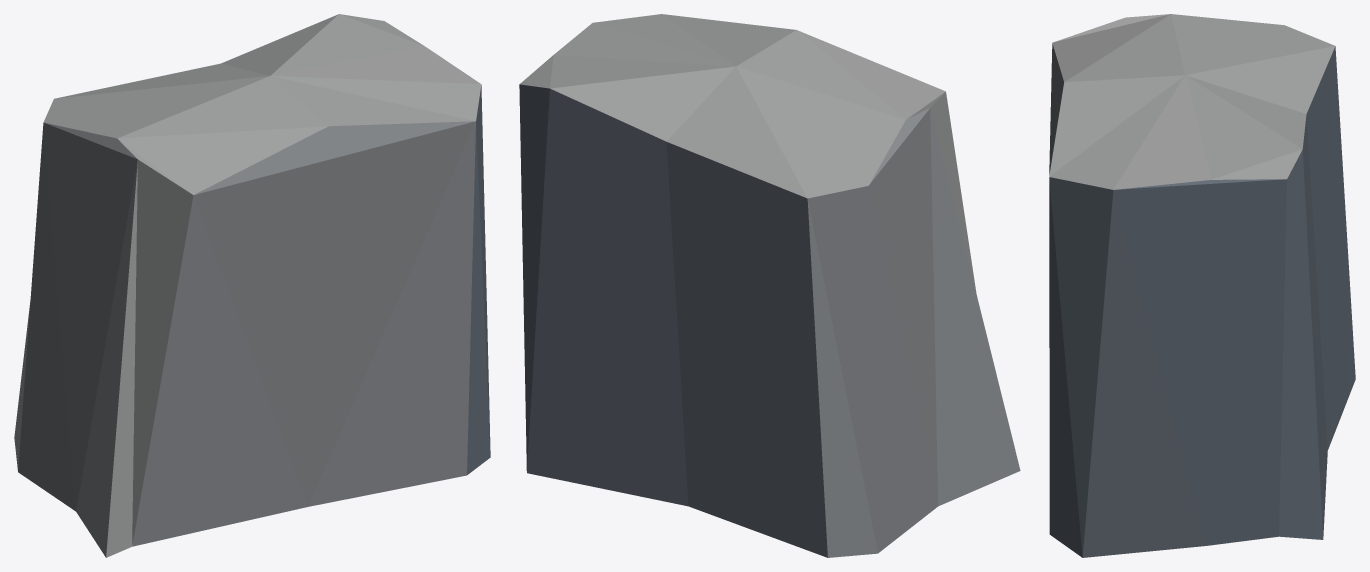
Rendered from rock_wide.glb.
3 renders of one model, left to right at view 1: azimuth 30°, elevation 25°; view 2: azimuth 150°, elevation 25°; view 3: azimuth 270°, elevation 25°, orthographic. The views are drawn at different scales.
Visible parts, largest first — view 1: rock_wide; view 2: rock_wide; view 3: rock_wide.
Part boxes in pixels (bbox=[...]): rock_wide: bbox=[14, 14, 490, 557]; rock_wide: bbox=[519, 14, 1020, 557]; rock_wide: bbox=[1049, 14, 1355, 557].
Size of the model in its own units: 1.98 by 1.85 by 1.28.
